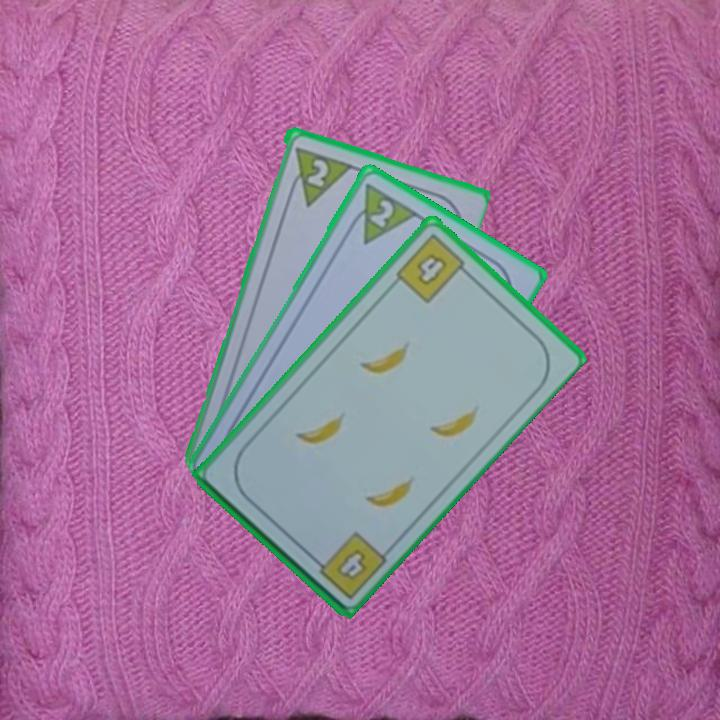2p: (342, 178, 421, 247), (283, 142, 352, 209)
4b: (391, 230, 473, 307), (307, 528, 389, 602)
